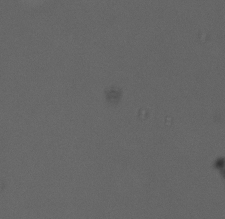Dead Cell: (106, 88, 122, 101)
